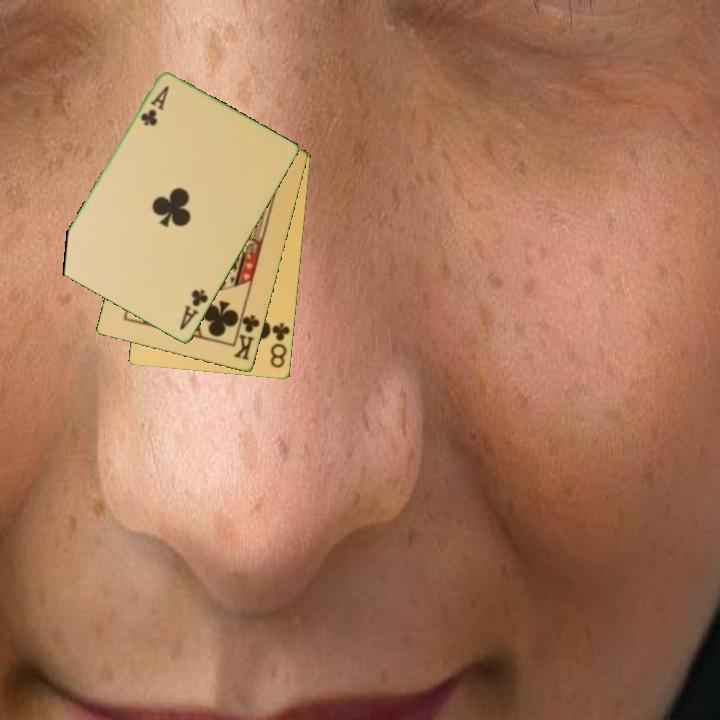8c: (267, 319, 293, 371)
Ac: (176, 286, 211, 334), (137, 83, 172, 129)
Kc: (230, 307, 263, 363)
